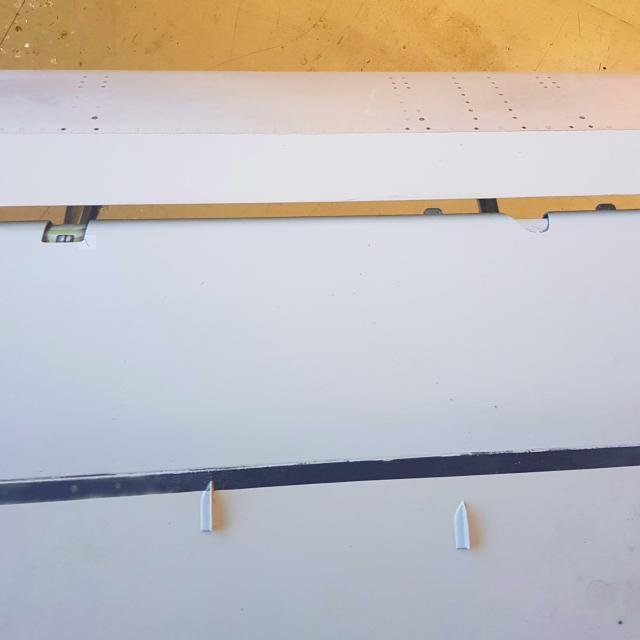crack: (80, 236, 98, 251)
